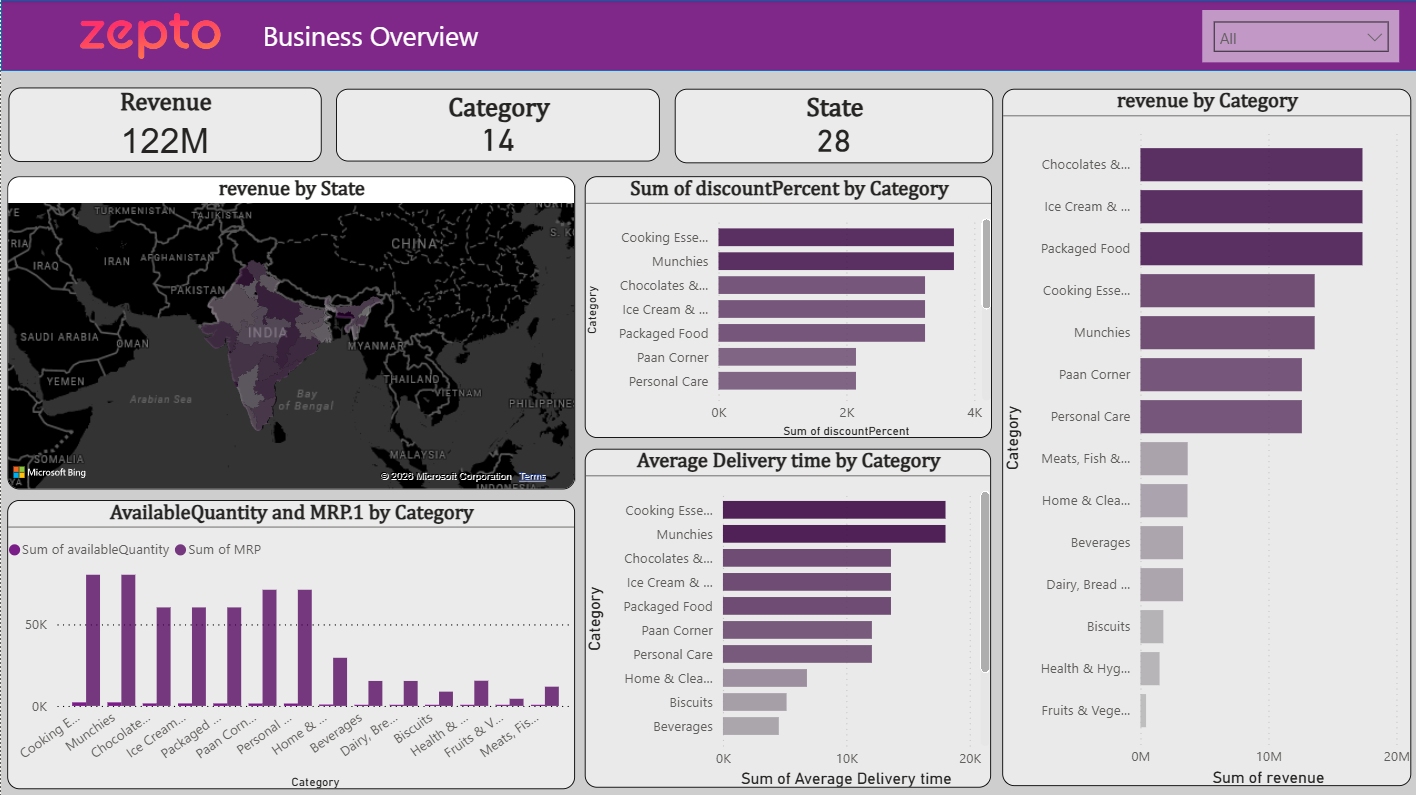

The page's visual inventory and layout, read from the dashboard file:
{"tool":"powerbi","page":{"name":"Page 1","canvas":[1280,720],"ordinal":0},"visuals":[{"type":"shape","box":[0,0,1279.5,64.1],"z":0},{"type":"image","box":[64.7,0,140.6,64.7],"z":1000},{"type":"textbox","box":[231.4,11.2,332.1,42.3],"z":2000},{"type":"slicer","fields":{"Values":["Table 1 (Sheet1).State"]},"box":[1083.5,8.7,177.9,47.3],"z":3000},{"type":"filledMap","title":"revenue by State","fields":{"Category":["Table 1 (Sheet1).State"]},"box":[5.8,159.3,511.6,282.6],"z":4000},{"type":"clusteredBarChart","fields":{"Y":["Sum(Table 1 (Sheet1).discountPercent)"],"Category":["Table 1 (Sheet1).Category"]},"box":[526.7,159.3,367.4,236],"z":5000},{"type":"card","title":" Revenue","fields":{"Values":["Sum(Table 1 (Sheet1).revenue)"]},"box":[6.2,78.4,282.4,67.2],"z":6000},{"type":"clusteredBarChart","title":"revenue by Category","fields":{"Y":["Sum(Table 1 (Sheet1).revenue)"],"Category":["Table 1 (Sheet1).Category"]},"box":[902.3,80.2,368.6,629.1],"z":7000},{"type":"lineClusteredColumnComboChart","title":"AvailableQuantity and  MRP.1 by Category","fields":{"Y":["Sum(Table 1 (Sheet1).availableQuantity)","Sum(Table 1 (Sheet1).MRP)"],"Category":["Table 1 (Sheet1).Category"]},"box":[5.8,451.2,511.6,260.5],"z":8000},{"type":"card","title":" State","fields":{"Values":["Count(Table 1 (Sheet1).State)"]},"box":[607.1,79.6,287.4,67.2],"z":9000},{"type":"card","title":"Category","fields":{"Values":["Count(Table 1 (Sheet1).Category)"]},"box":[302.3,79.6,292.3,65.9],"z":10000},{"type":"clusteredBarChart","title":"Average Delivery time by Category","fields":{"Y":["Sum(Table 1 (Sheet1).Average Delivery time)"],"Category":["Table 1 (Sheet1).Category"]},"box":[526.7,404.7,366.3,305.8],"z":11000}]}

Visuals, with their boxes in screenshot pixels (x1, y1, x2, y2), scaled from the page's 1280x720 canvas onto the 1416x795 screenshot:
shape: l=0, t=0, r=1415, b=71
image: l=72, t=0, r=227, b=71
textbox: l=256, t=12, r=623, b=59
slicer - Table 1 (Sheet1).State: l=1199, t=10, r=1395, b=62
"revenue by State" filledMap: l=6, t=176, r=572, b=488
clusteredBarChart - Sum(Table 1 (Sheet1).discountPercent) x Table 1 (Sheet1).Category: l=583, t=176, r=989, b=436
" Revenue" card: l=7, t=87, r=319, b=161
"revenue by Category" clusteredBarChart: l=998, t=89, r=1406, b=783
"AvailableQuantity and  MRP.1 by Category" lineClusteredColumnComboChart: l=6, t=498, r=572, b=786
" State" card: l=672, t=88, r=990, b=162
"Category" card: l=334, t=88, r=658, b=161
"Average Delivery time by Category" clusteredBarChart: l=583, t=447, r=988, b=785
